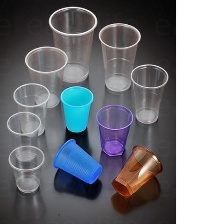glass: (43, 4, 96, 83), (96, 17, 141, 97), (107, 142, 166, 199), (123, 59, 173, 126), (50, 135, 104, 189), (23, 43, 64, 109), (10, 79, 52, 139), (3, 109, 46, 165), (91, 99, 132, 157), (55, 80, 94, 136), (7, 145, 48, 197)
